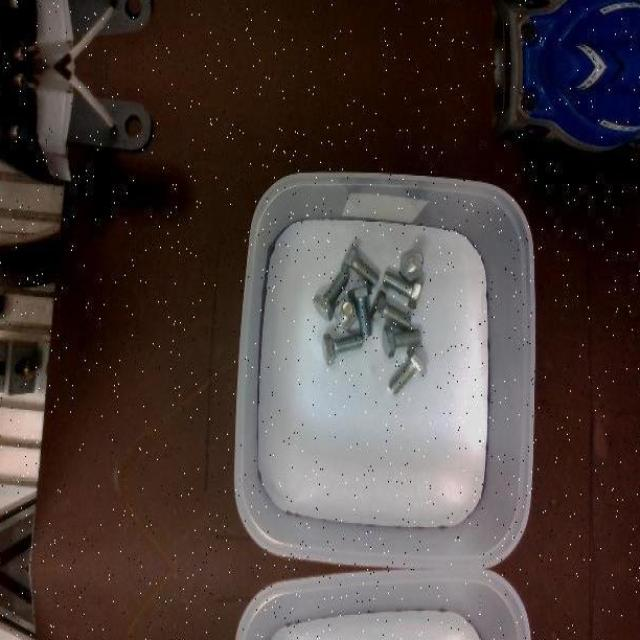screw: (388, 345, 427, 394), (312, 271, 347, 319), (370, 290, 411, 330), (382, 269, 423, 308), (340, 242, 377, 285), (346, 284, 371, 338), (322, 332, 363, 364), (382, 325, 421, 357), (398, 249, 424, 281), (334, 298, 356, 330)
